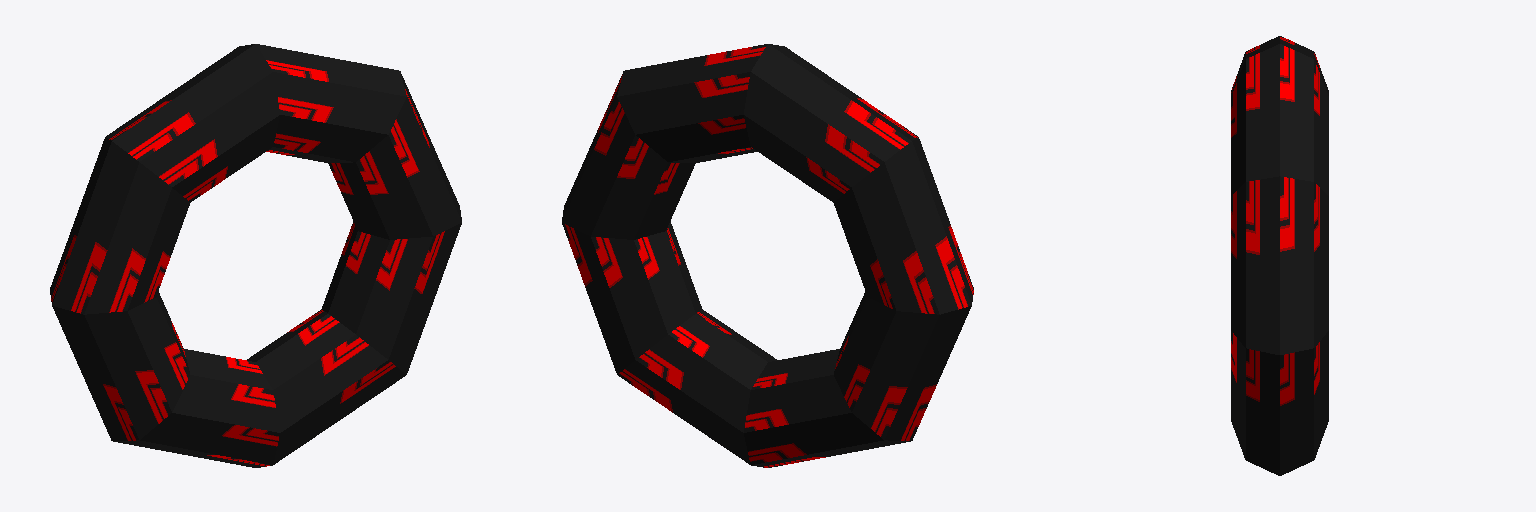
The picture shows the model from 3 angles: view 1: azimuth 30°, elevation 25°; view 2: azimuth 150°, elevation 25°; view 3: azimuth 270°, elevation 25°; orthographic projection.
Visible parts, largest first — view 1: group1; view 2: group1; view 3: group1.
Boxes of the visible parts, box(x1,y1,x2,y2) form: group1: box(50, 44, 461, 467); group1: box(562, 44, 973, 467); group1: box(1231, 36, 1328, 475).
Bounding box in the file's own units: 70.67 × 70.29 × 14.63.
1 materials, 1 textured.